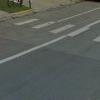Crosswalk: (13, 12, 97, 39)
